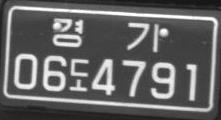0: (14, 52, 37, 90)
1: (181, 64, 204, 101)
4: (91, 58, 115, 95)
6: (42, 54, 66, 92)
7: (122, 58, 146, 97)
9: (150, 61, 176, 99)
경기_D: (53, 17, 159, 51)
도: (69, 58, 88, 91)
